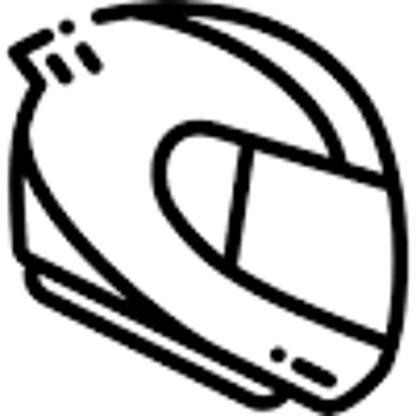not trash: (8, 0, 413, 413)
